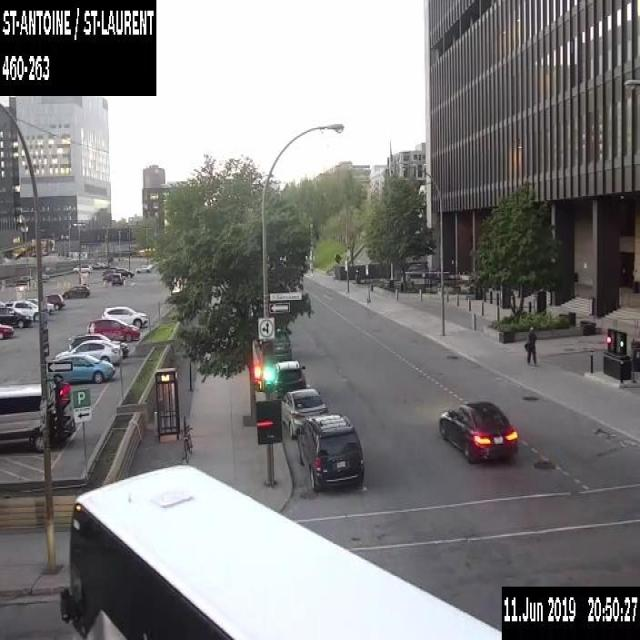bus: (59, 463, 501, 639)
pedestrian: (524, 325, 537, 363)
vehicle: (437, 402, 524, 466), (0, 382, 75, 452), (296, 413, 363, 490), (280, 387, 328, 438), (49, 353, 115, 381), (55, 338, 122, 362), (86, 317, 140, 341), (273, 359, 306, 398), (68, 332, 128, 353), (101, 304, 147, 328), (270, 327, 292, 361), (4, 300, 38, 321), (0, 305, 31, 327), (26, 297, 54, 313), (61, 284, 89, 298), (42, 292, 64, 309), (0, 321, 14, 339), (115, 266, 134, 277), (72, 263, 92, 273), (102, 272, 121, 280), (112, 272, 124, 284), (134, 264, 150, 273), (101, 268, 115, 275), (91, 261, 104, 268)
